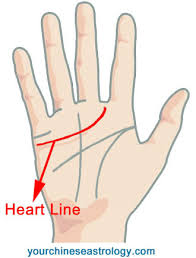palm: (42, 112, 141, 219)
